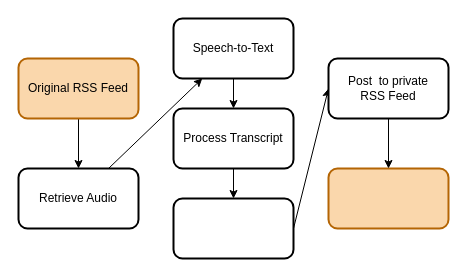
Image size: 466x276. Some labels were removed from this diagram. Each missing label, with the centre of its shape:
Podcast Provider (Overcast, Spotify, Apple Podcasts): [388,198]
Re-stitch Audio: [233,228]
